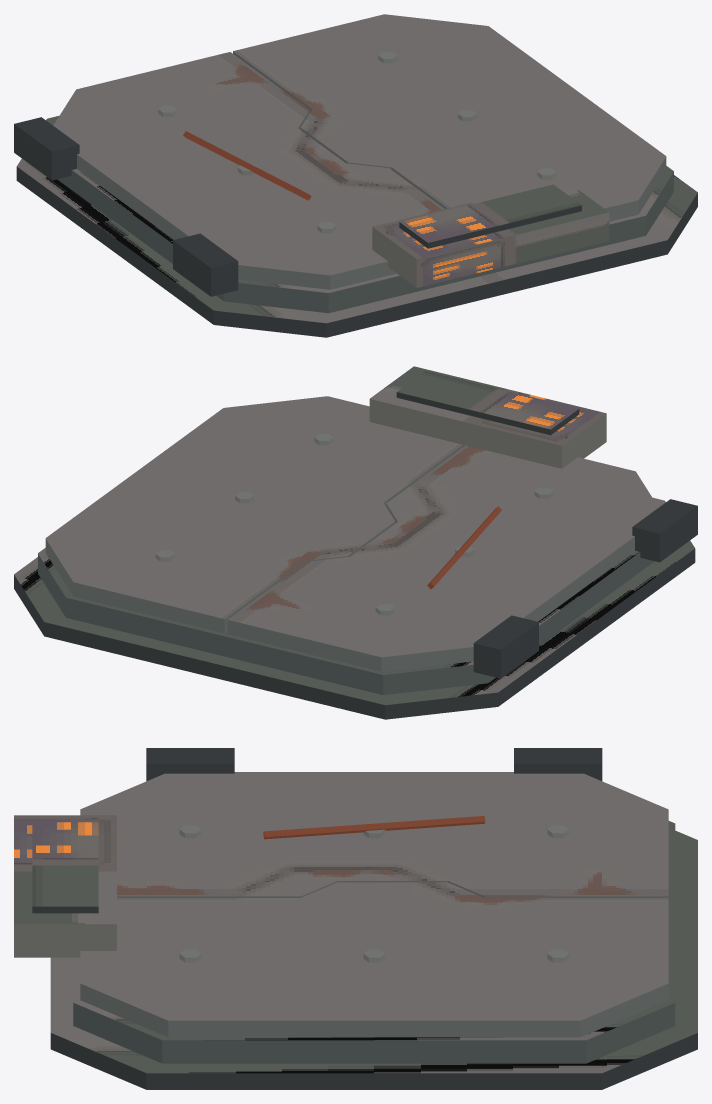
The model's file is Building_AncientHatch.glb.
The picture shows the model from 3 angles, top to bottom: view 1: azimuth 30°, elevation 25°; view 2: azimuth 150°, elevation 25°; view 3: azimuth 270°, elevation 25°; orthographic projection. The views are drawn at different scales.
Visible parts, largest first — view 1: AncientHatch; view 2: AncientHatch; view 3: AncientHatch.
Boxes of the visible parts, left/top/right/bottom form: AncientHatch: left=14, top=14, right=697, bottom=337; AncientHatch: left=14, top=366, right=697, bottom=719; AncientHatch: left=14, top=748, right=697, bottom=1089.
Size of the model in its own units: 1.77 by 0.27 by 1.86.
Materials: 1 (1 with a texture image).
